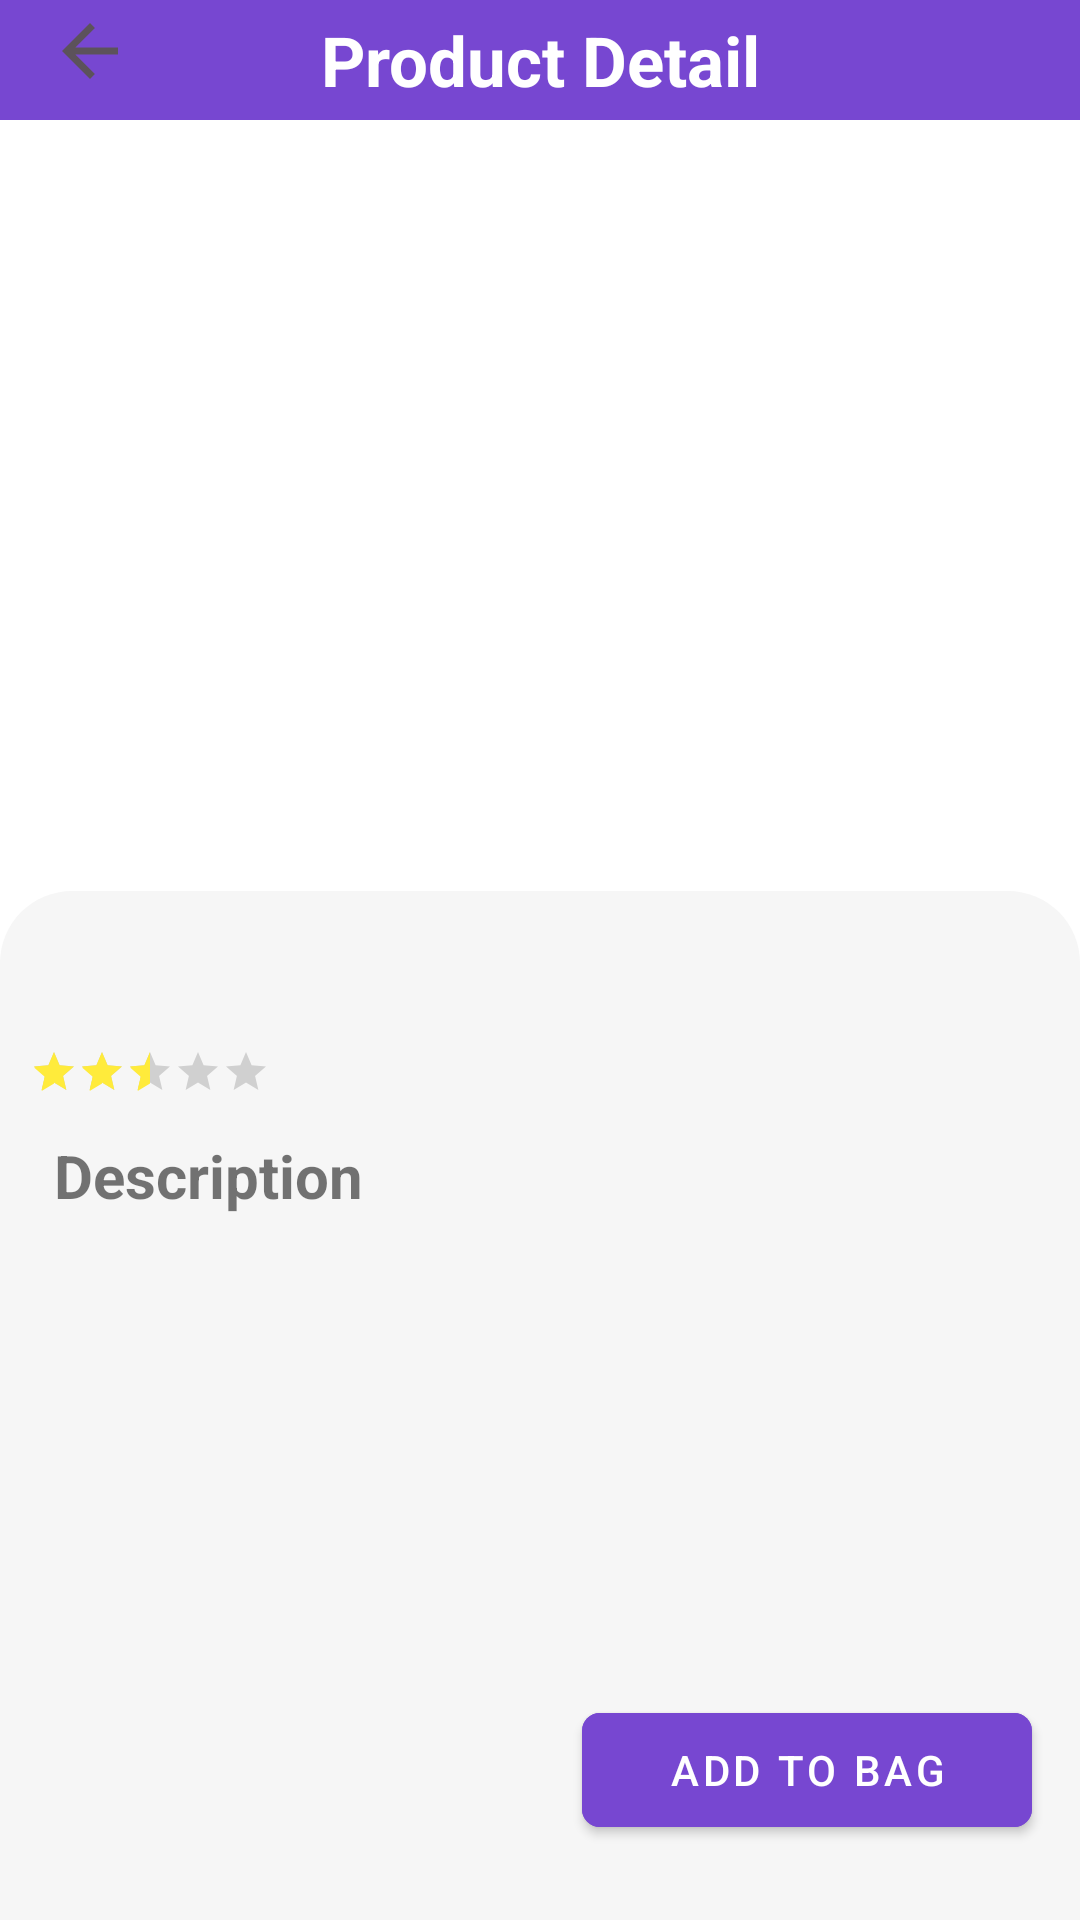

Named icons in this screenshot (1080px x 1920px) and their centers, (x,y):
back: (90,51)
